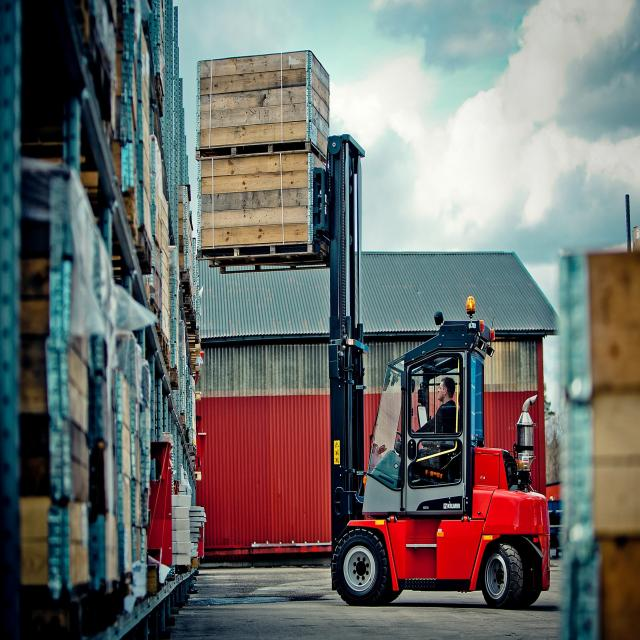forklift: (330, 194, 552, 609)
